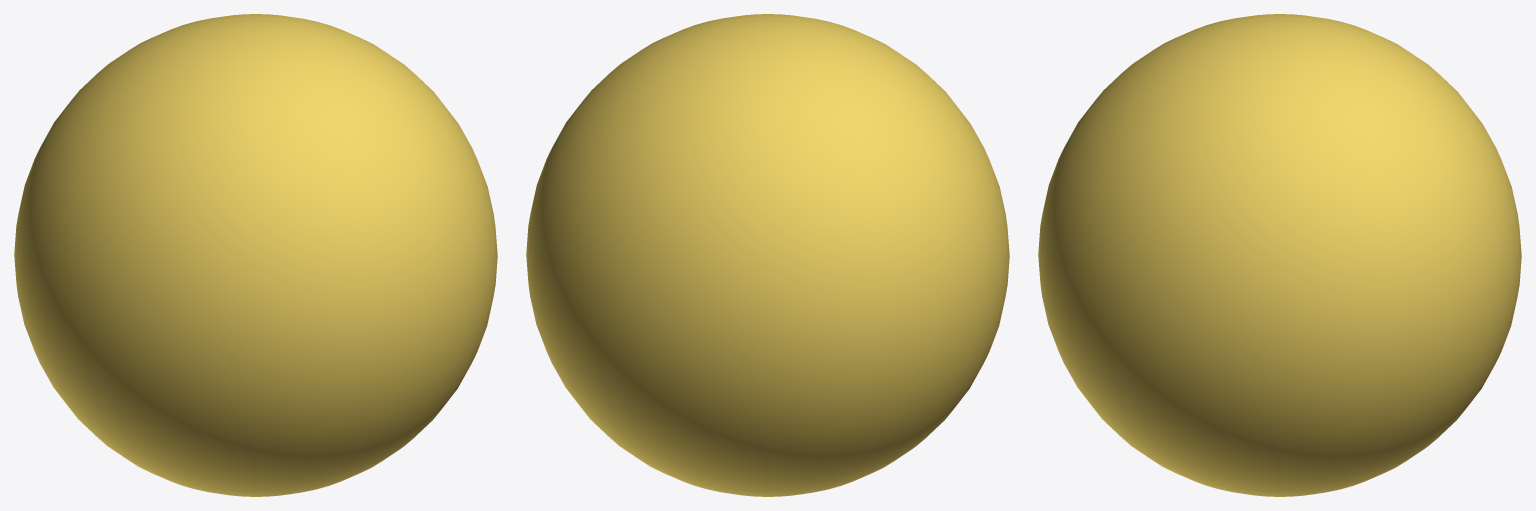
Rendered from polished-gold.glb.
The picture shows the model from 3 angles, left to right: view 1: azimuth 30°, elevation 25°; view 2: azimuth 150°, elevation 25°; view 3: azimuth 270°, elevation 25°; orthographic projection.
Parts seen in each view (by area): view 1: Sphere; view 2: Sphere; view 3: Sphere.
Part boxes in pixels (x1=…): Sphere: x1=14, y1=14, x2=497, y2=496; Sphere: x1=526, y1=14, x2=1009, y2=496; Sphere: x1=1038, y1=14, x2=1521, y2=496.
Bounding box in the file's own units: 7469 × 7470 × 7469.
